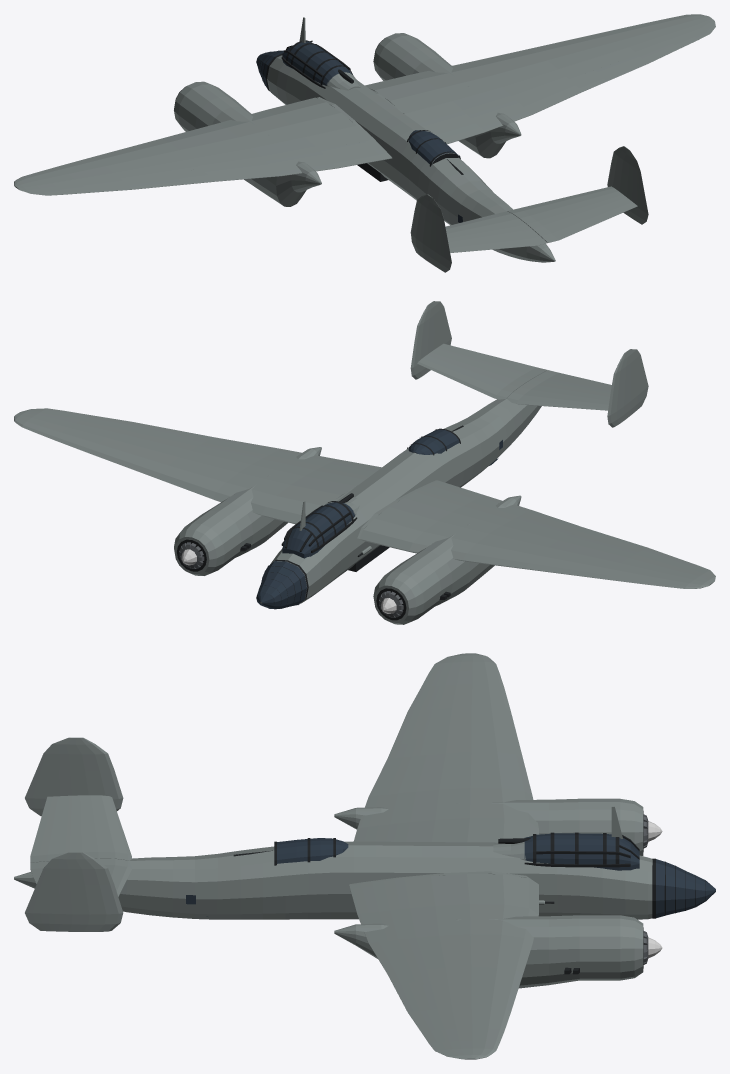
The picture shows the model from 3 angles, top to bottom: view 1: azimuth 30°, elevation 25°; view 2: azimuth 150°, elevation 25°; view 3: azimuth 270°, elevation 25°; orthographic projection. The views are drawn at different scales.
Visible parts, largest first — view 1: Wing L, Wing R, Fuselage, Nacelles, Flap L, Flap R, Stabilizer R, Stabilizer L, Vertical Fin, Elevator R, Aileron R, Aileron L (+7 smaller); view 2: Wing L, Wing R, Fuselage, Nacelles, Stabilizer R, Stabilizer L, Flap R, Flap L, Nose Glass, Cockpit Glass, Vertical Fin, Vertical Fin 2 (+9 smaller); view 3: Fuselage, Wing R, Wing L, Nacelles, Vertical Fin 2, Flap R, Flap L, Stabilizer L, Vertical Fin, Cockpit Glass, Nose Glass, Elevator L (+7 smaller).
Boxes of the visible parts, box(x1,y1,x2,y2) form: Wing L: box(14, 97, 392, 195); Wing R: box(365, 14, 715, 133); Fuselage: box(267, 55, 555, 262); Nacelles: box(174, 33, 521, 206); Flap L: box(179, 141, 383, 183); Flap R: box(426, 72, 600, 144); Stabilizer R: box(507, 186, 627, 229); Stabilizer L: box(445, 211, 532, 243); Vertical Fin: box(410, 194, 438, 267); Elevator R: box(534, 198, 637, 242); Aileron R: box(595, 28, 709, 81); Aileron L: box(42, 173, 183, 195); Wing L: box(357, 480, 715, 588); Wing R: box(14, 408, 377, 524); Fuselage: box(260, 398, 541, 603); Nacelles: box(174, 447, 521, 624); Stabilizer R: box(417, 349, 532, 399); Stabilizer L: box(507, 378, 610, 410); Flap R: box(179, 433, 381, 476); Flap L: box(426, 482, 600, 539); Nose Glass: box(256, 561, 306, 609); Cockpit Glass: box(282, 502, 354, 558); Vertical Fin: box(607, 349, 636, 427); Vertical Fin 2: box(410, 301, 440, 379); Fuselage: box(14, 841, 652, 919); Wing R: box(349, 871, 554, 1059); Wing L: box(393, 653, 538, 842); Nacelles: box(334, 798, 643, 988); Vertical Fin 2: box(55, 852, 123, 931); Flap R: box(350, 883, 423, 984); Flap L: box(354, 742, 423, 841); Stabilizer L: box(65, 795, 131, 860); Vertical Fin: box(55, 737, 123, 810); Cockpit Glass: box(524, 833, 639, 870); Nose Glass: box(656, 859, 715, 918); Elevator L: box(30, 795, 69, 862).
Bounding box in the file's own units: 18.86 × 2.91 × 13.8.
